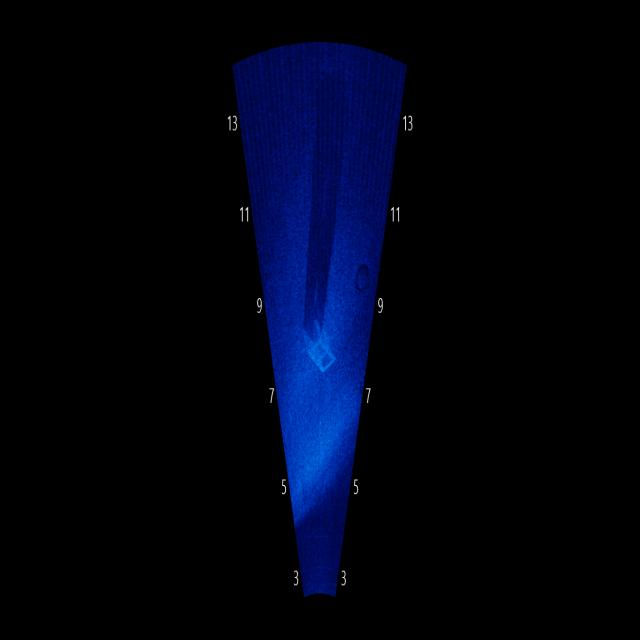square: (292, 303, 344, 383)
